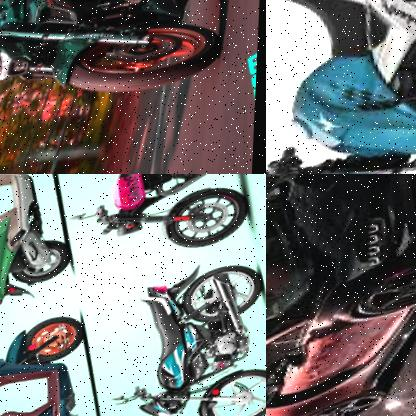bike: (92, 256, 266, 416), (266, 0, 416, 174), (46, 174, 265, 292), (0, 174, 83, 335), (0, 318, 112, 416)
car: (266, 174, 416, 416)
